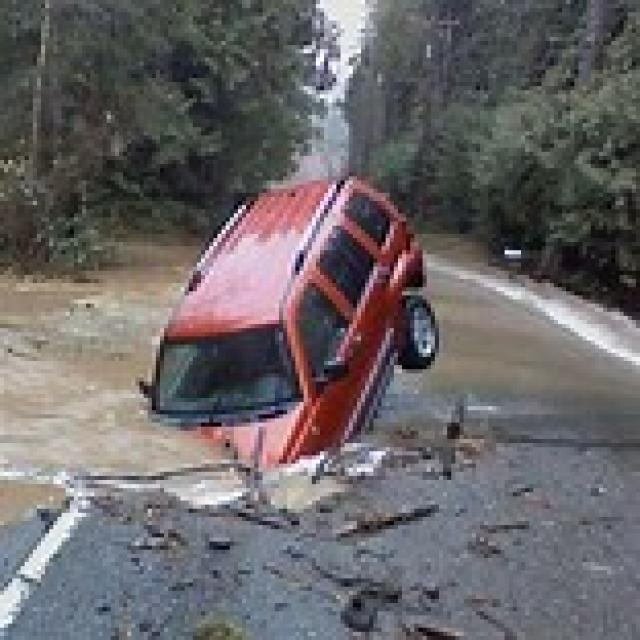Accident: (70, 133, 505, 462)
